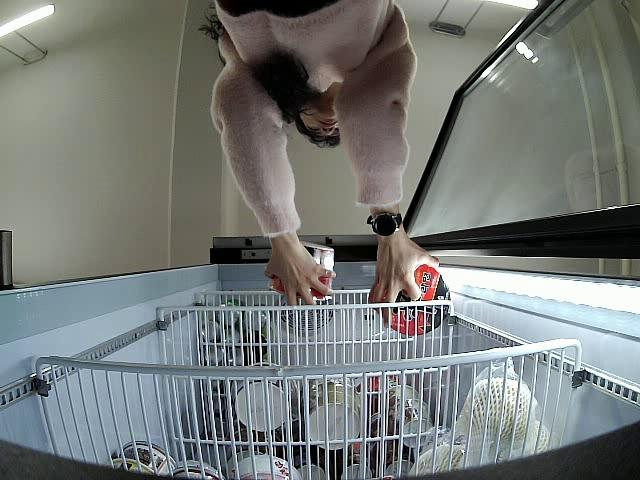00_hand: (262, 237, 338, 309), (366, 234, 441, 304)
01_shinRamen_L: (379, 265, 450, 336), (267, 242, 335, 301)
